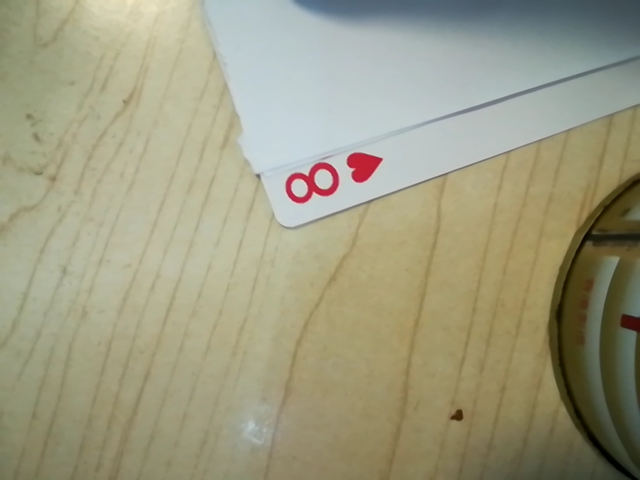hx 8: (276, 145, 384, 216)
